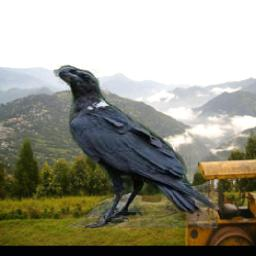Crow: (54, 64, 218, 228)
